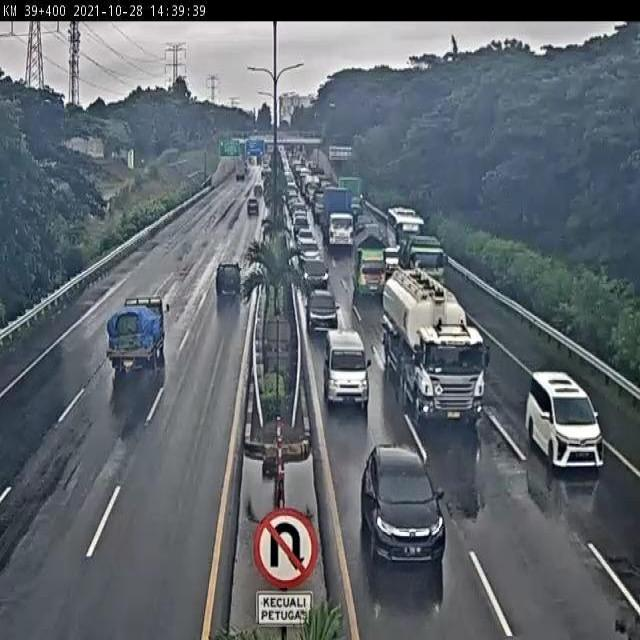big truck: (378, 263, 497, 433)
